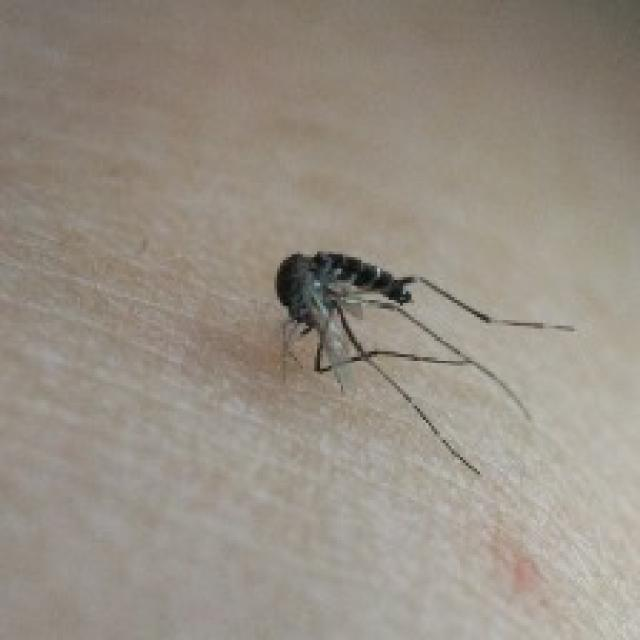aedes: (272, 246, 574, 477)
